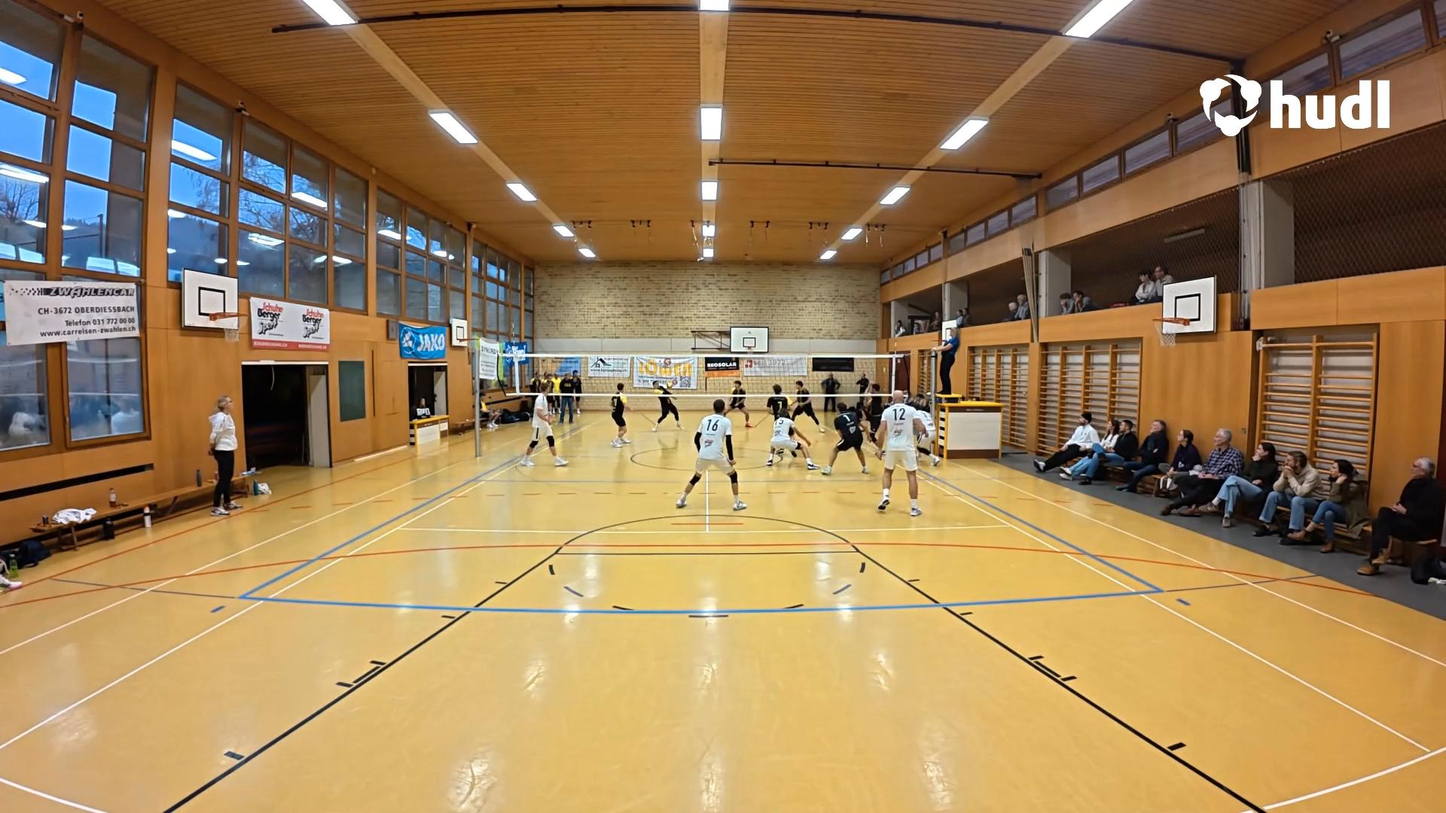Dig: (652, 378, 679, 437)
Player: (678, 397, 747, 510), (872, 391, 923, 515), (523, 380, 567, 466), (826, 399, 872, 479), (758, 381, 793, 463), (773, 408, 817, 464), (911, 401, 943, 467), (859, 381, 886, 458), (790, 375, 822, 429), (721, 380, 752, 433), (609, 385, 630, 449)
ball: (661, 380, 674, 392)
